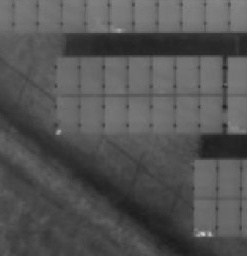solar: (53, 55, 82, 95), (78, 55, 107, 95), (102, 55, 131, 95), (124, 55, 153, 95), (148, 55, 177, 95), (173, 55, 202, 95), (197, 55, 226, 95), (197, 94, 226, 134), (172, 95, 201, 135), (147, 94, 176, 134), (124, 94, 153, 134), (101, 94, 130, 134), (78, 94, 107, 134), (53, 94, 82, 134), (191, 158, 220, 198), (215, 158, 244, 198), (215, 196, 244, 236), (191, 196, 220, 236)
